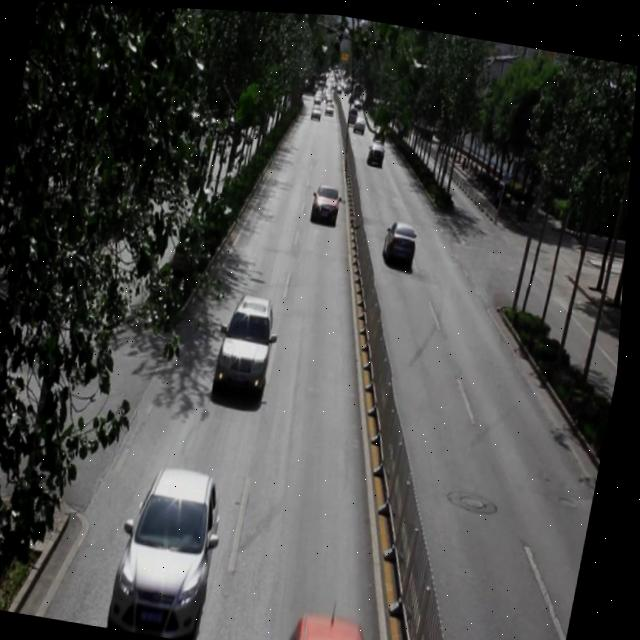car: (115, 459, 235, 639), (216, 289, 285, 399), (287, 605, 386, 640), (381, 214, 422, 267), (310, 179, 344, 222), (367, 136, 388, 162), (373, 118, 389, 141), (353, 110, 369, 131), (311, 100, 324, 118), (323, 97, 336, 114)
truck: (346, 100, 360, 122)
